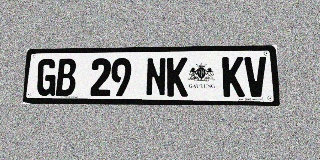2: (90, 58, 111, 96)
9: (111, 58, 131, 96)
B: (56, 58, 76, 96)
G: (36, 59, 57, 96)
K: (222, 57, 245, 97), (167, 57, 188, 97)
N: (145, 58, 166, 96)
V: (244, 57, 268, 97)
